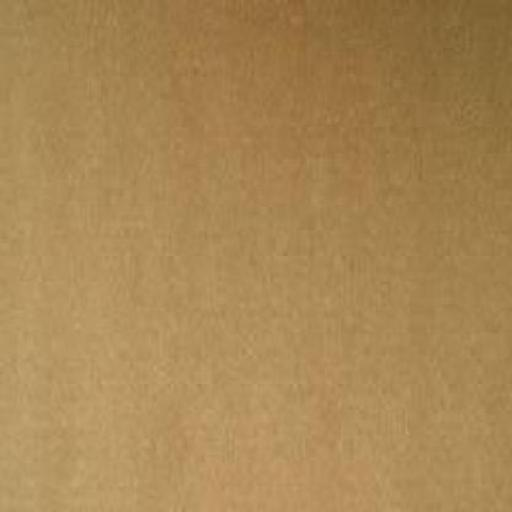cardboard: (0, 2, 511, 512)
